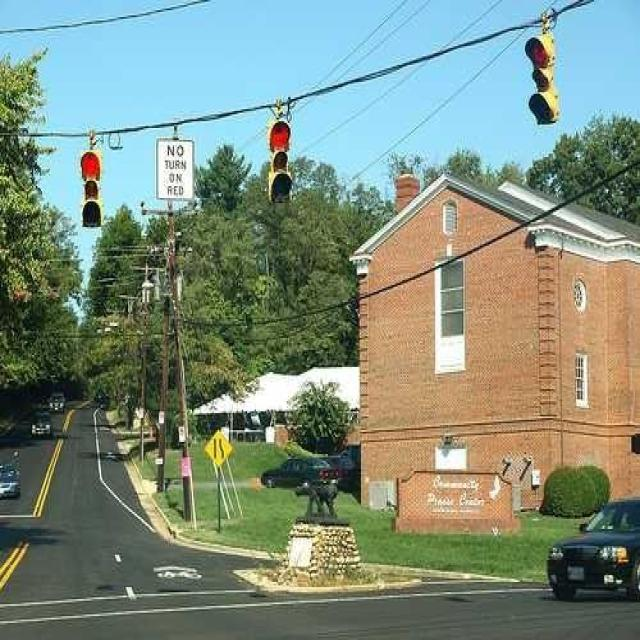Traffic Light -Red-: (76, 143, 108, 232), (265, 116, 296, 203)
Traffic Light -Yellow-: (522, 29, 556, 130), (76, 143, 106, 232)
